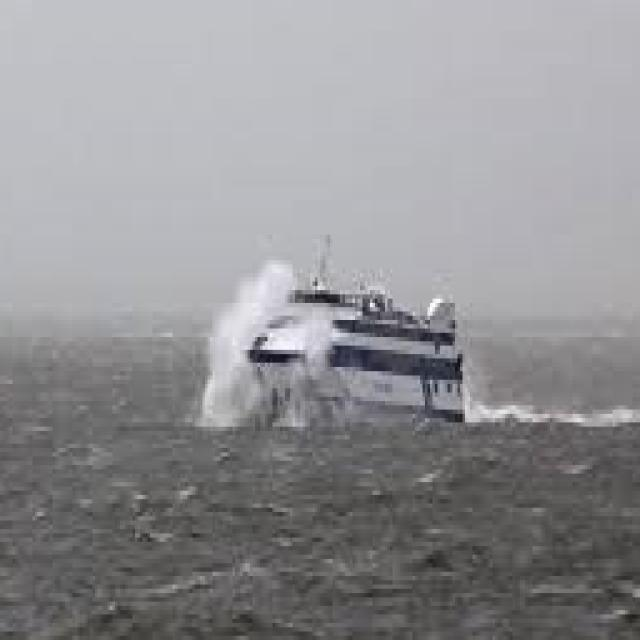passenger ship: (229, 256, 488, 434)
